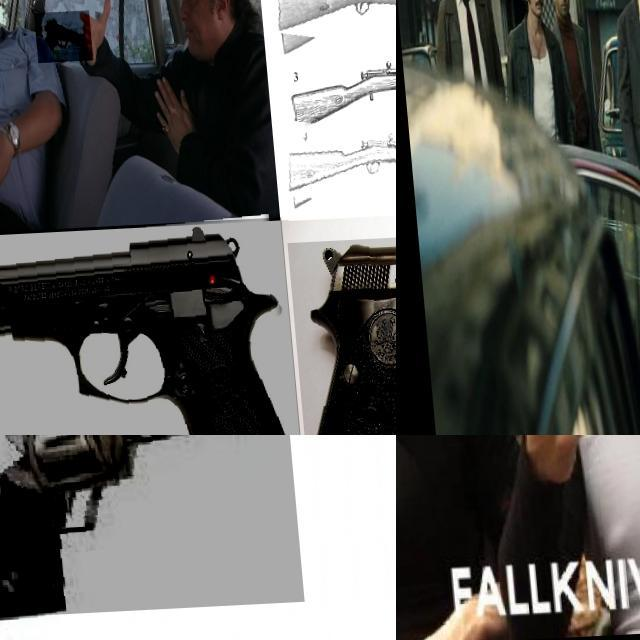-: (496, 435, 584, 615)
gun-knife-thesis - v11 Yolov5 augmented: (0, 220, 297, 435), (0, 435, 298, 620), (280, 235, 396, 435), (276, 124, 396, 224), (268, 0, 396, 72), (283, 56, 396, 136), (257, 0, 396, 37), (32, 12, 91, 64)
